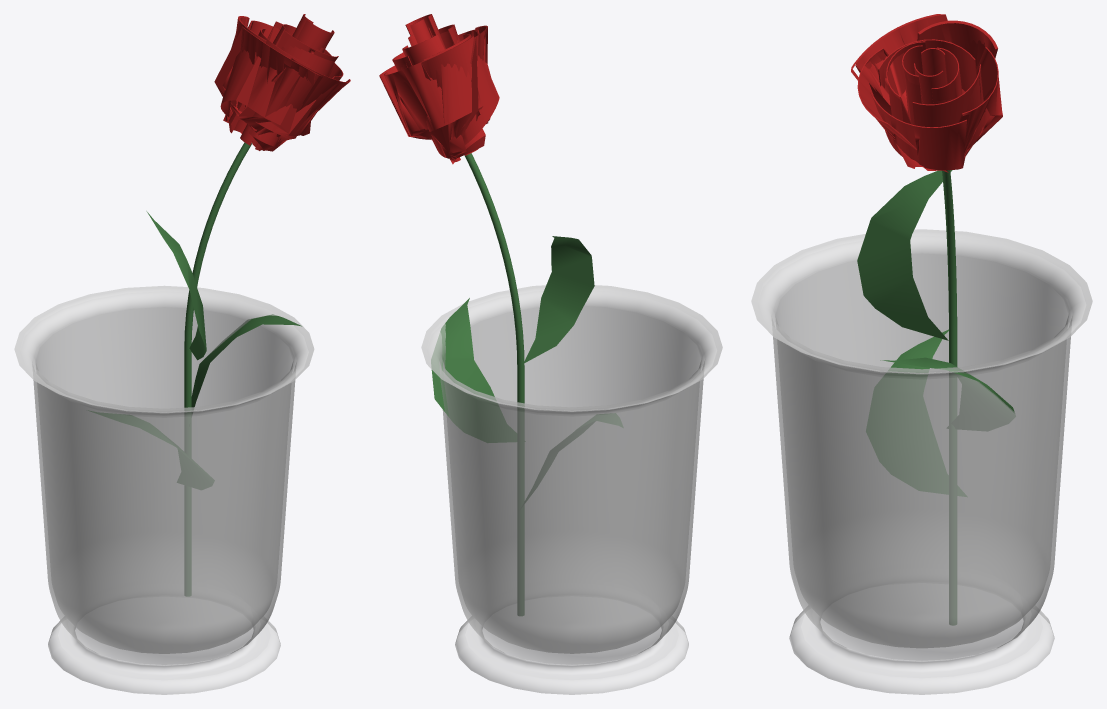
3 renders of one model, left to right at view 1: azimuth 30°, elevation 25°; view 2: azimuth 150°, elevation 25°; view 3: azimuth 270°, elevation 25°, orthographic. The views are drawn at different scales.
Parts seen in each view (by area): view 1: Mesh1_Component_49_1_Component_6_1_Model.001; view 2: Mesh1_Component_49_1_Component_6_1_Model.001; view 3: Mesh1_Component_49_1_Component_6_1_Model.001.
Boxes of the visible parts, x1,y1,x2,y2 form: Mesh1_Component_49_1_Component_6_1_Model.001: [14, 14, 350, 694]; Mesh1_Component_49_1_Component_6_1_Model.001: [379, 14, 722, 694]; Mesh1_Component_49_1_Component_6_1_Model.001: [751, 14, 1092, 694].
Size of the model in its own units: 0.5445 by 1 by 0.4617.
